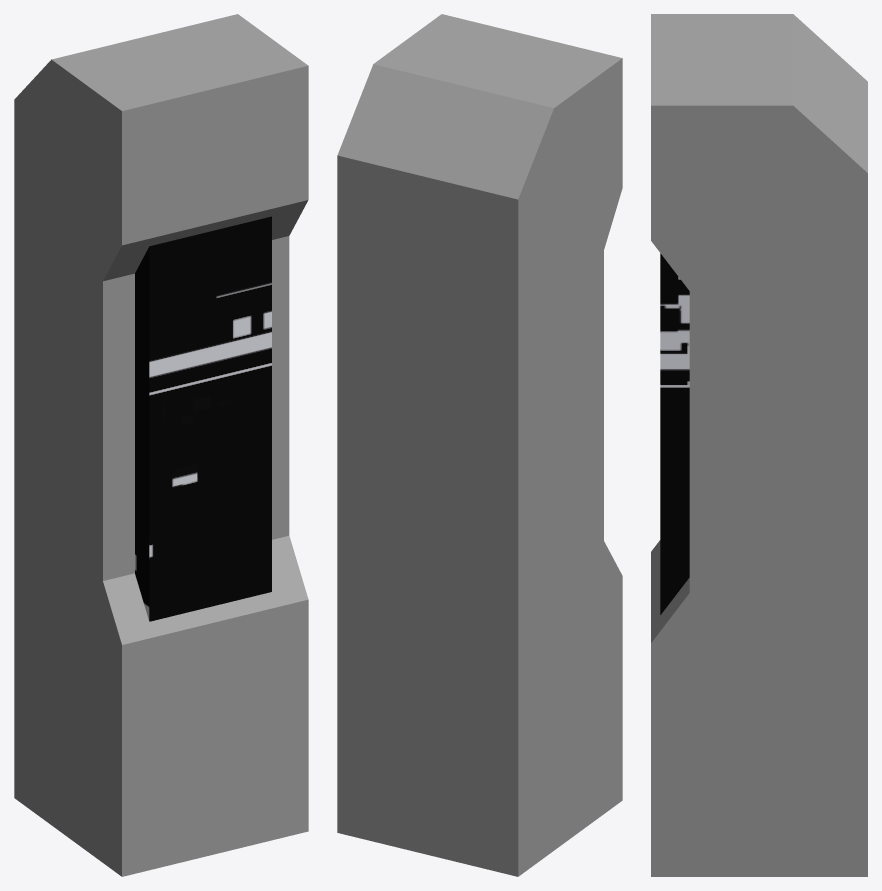
File: Skyscrape02.fbx
3 views of the same model, side by side, from view 1: azimuth 30°, elevation 25°; view 2: azimuth 150°, elevation 25°; view 3: azimuth 270°, elevation 25° (orthographic). The views are drawn at different scales.
Visible parts, largest first — view 1: Skyscrape02; view 2: Skyscrape02; view 3: Skyscrape02.
Boxes of the visible parts, <box> form: Skyscrape02: <box>14,14,308,876</box>; Skyscrape02: <box>337,14,622,876</box>; Skyscrape02: <box>651,14,867,876</box>.
Size of the model in its own units: 0.3509 by 1.38 by 0.3509.
